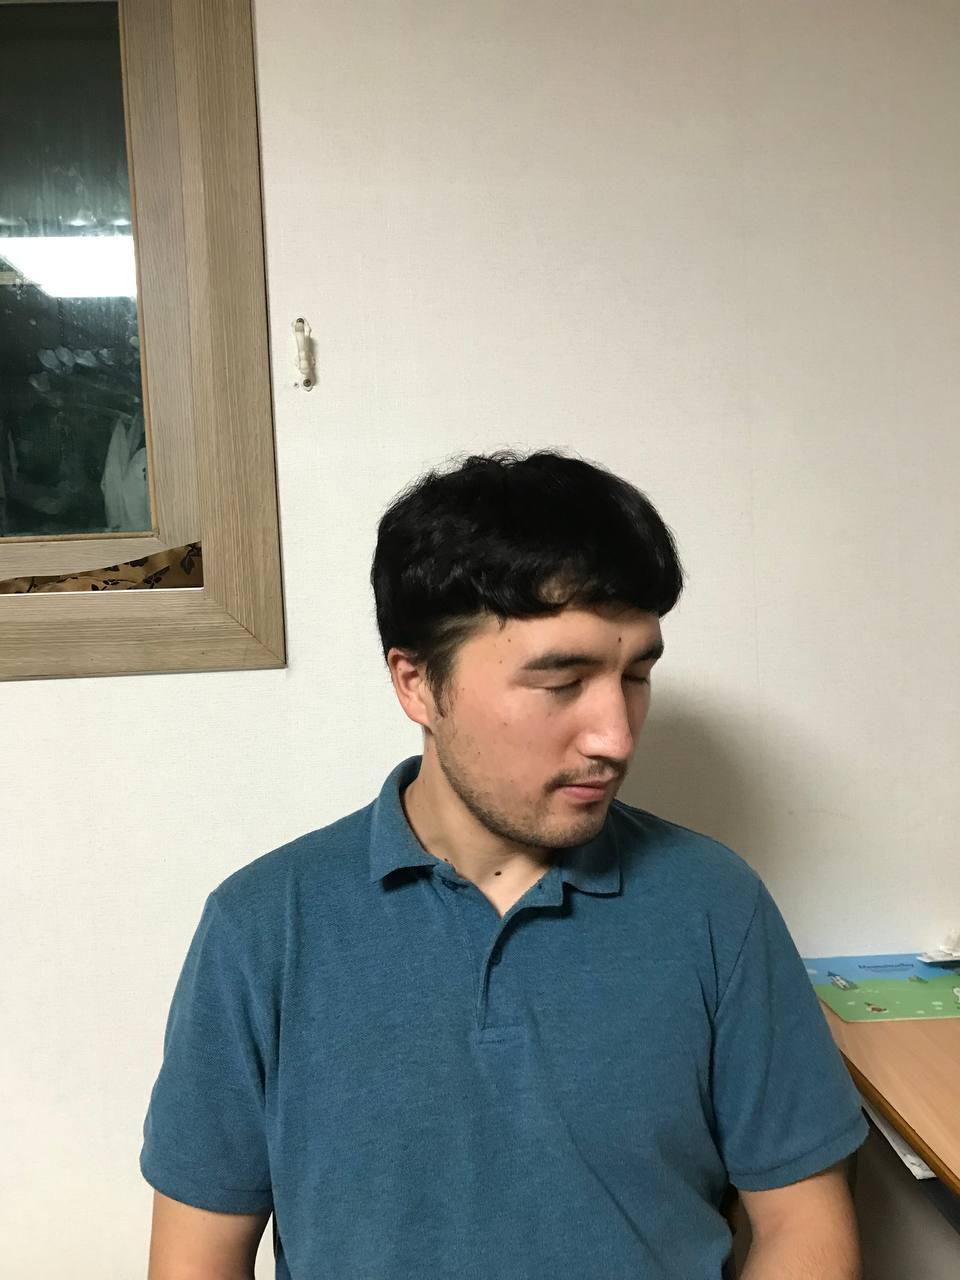NoMask: (402, 706, 653, 849)
